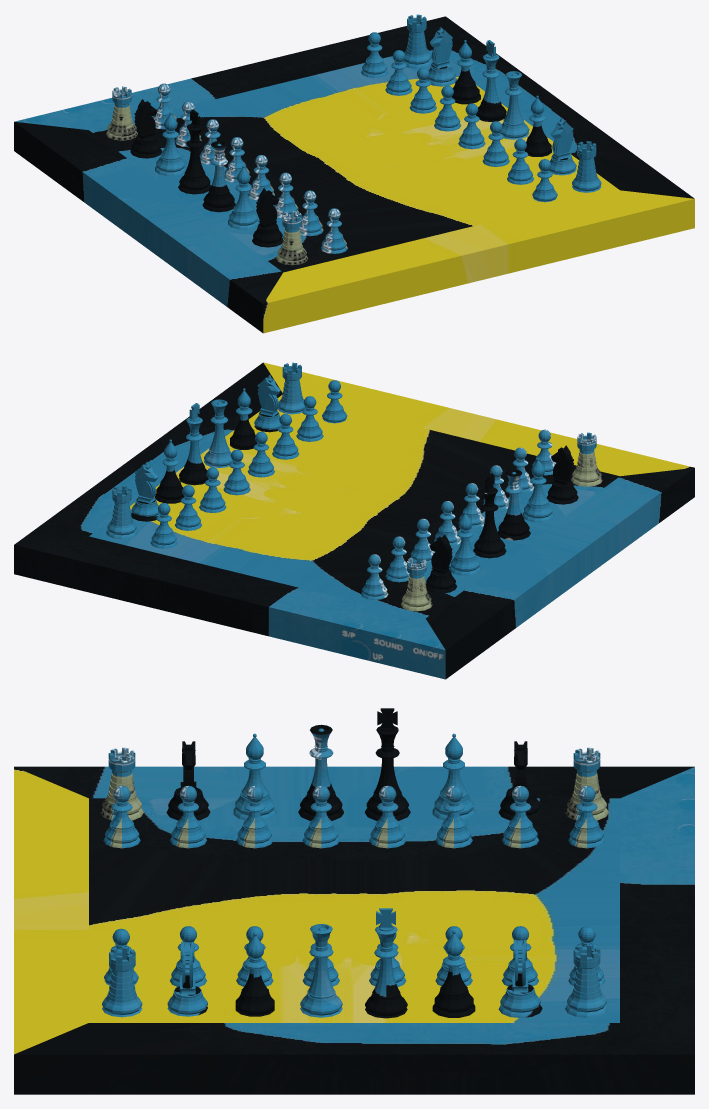
Rendered from 954T9NVANA1D7JLI2UZ96L74S.obj.
The picture shows the model from 3 angles, top to bottom: view 1: azimuth 30°, elevation 25°; view 2: azimuth 150°, elevation 25°; view 3: azimuth 270°, elevation 25°; orthographic projection. The views are drawn at different scales.
Visible parts, largest first — view 1: Object_TexMap_0, Object_TexMap_10, Object_TexMap_40, Object_TexMap_8, Object_TexMap_14, Object_TexMap_4, Object_TexMap_36, Object_TexMap_16, Object_TexMap_2, Object_TexMap_34, Object_TexMap_42, Object_TexMap_46 (+21 smaller); view 2: Object_TexMap_0, Object_TexMap_10, Object_TexMap_40, Object_TexMap_8, Object_TexMap_14, Object_TexMap_4, Object_TexMap_36, Object_TexMap_2, Object_TexMap_16, Object_TexMap_34, Object_TexMap_42, Object_TexMap_46 (+20 smaller); view 3: Object_TexMap_0, Object_TexMap_40, Object_TexMap_42, Object_TexMap_10, Object_TexMap_34, Object_TexMap_38, Object_TexMap_48, Object_TexMap_44, Object_TexMap_8, Object_TexMap_36, Object_TexMap_16, Object_TexMap_2 (+18 smaller).
Boxes of the visible parts, x1,y1,x2,y2 form: Object_TexMap_0: [14, 16, 694, 333]; Object_TexMap_10: [178, 109, 210, 194]; Object_TexMap_40: [476, 40, 506, 121]; Object_TexMap_8: [202, 141, 235, 212]; Object_TexMap_14: [130, 99, 162, 158]; Object_TexMap_4: [252, 188, 282, 247]; Object_TexMap_36: [427, 27, 456, 86]; Object_TexMap_16: [106, 86, 137, 140]; Object_TexMap_2: [276, 211, 307, 265]; Object_TexMap_34: [403, 14, 432, 68]; Object_TexMap_42: [500, 71, 529, 139]; Object_TexMap_46: [549, 118, 576, 175]; Object_TexMap_0: [14, 362, 694, 679]; Object_TexMap_10: [473, 473, 506, 558]; Object_TexMap_40: [179, 403, 208, 485]; Object_TexMap_8: [497, 469, 530, 540]; Object_TexMap_14: [426, 534, 456, 593]; Object_TexMap_4: [546, 445, 578, 504]; Object_TexMap_36: [131, 461, 159, 521]; Object_TexMap_2: [571, 432, 602, 486]; Object_TexMap_16: [401, 557, 432, 611]; Object_TexMap_34: [106, 485, 137, 539]; Object_TexMap_42: [204, 399, 232, 467]; Object_TexMap_46: [254, 375, 281, 432]; Object_TexMap_0: [14, 766, 694, 1094]; Object_TexMap_40: [365, 908, 407, 1018]; Object_TexMap_42: [300, 924, 342, 1017]; Object_TexMap_10: [364, 708, 410, 820]; Object_TexMap_34: [565, 944, 608, 1017]; Object_TexMap_38: [432, 930, 475, 1017]; Object_TexMap_48: [102, 946, 142, 1017]; Object_TexMap_44: [235, 932, 274, 1016]; Object_TexMap_8: [298, 724, 344, 820]; Object_TexMap_36: [498, 940, 542, 1017]; Object_TexMap_16: [565, 747, 608, 820]; Object_TexMap_2: [100, 747, 143, 820].
Size of the model in its own units: 2.5 by 0.5801 by 2.5.
